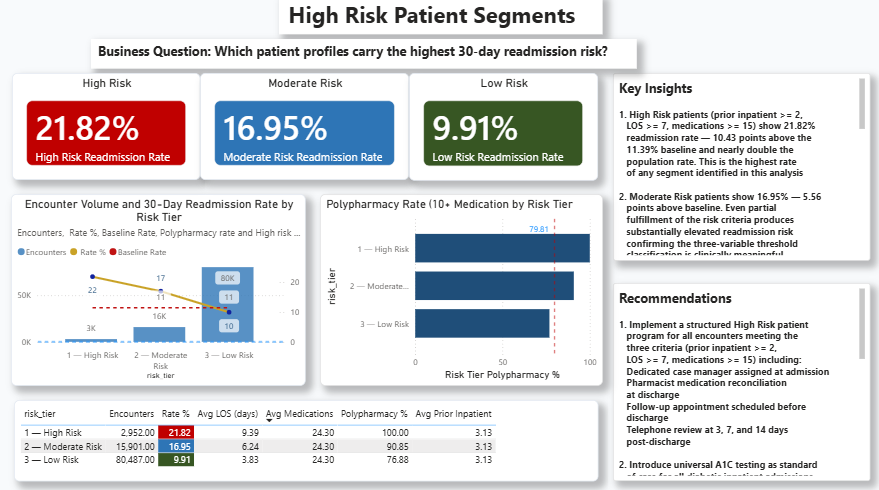

Layout of this report page (visuals, bound fields, positions):
{"tool":"powerbi","page":{"name":"High Risk Segments","canvas":[1280,720],"ordinal":1},"visuals":[{"type":"textbox","box":[404.4,0,468.9,56.7],"z":0},{"type":"lineClusteredColumnComboChart","title":"Encounter Volume and 30-Day                    Readmission Rate by Risk Tier","fields":{"Category":["public vw_kpi_high_risk_segments.risk_tier"],"Y2":["public vw_kpi_high_risk_segments.Risk Tier Rate %","_Measures.Baseline Rate"],"Y":["public vw_kpi_high_risk_segments.Risk Tier Encounters"]},"box":[16.4,288.1,427.2,278.3],"z":1000},{"type":"textbox","box":[888.8,112.9,373.2,271.7],"z":2000},{"type":"textbox","box":[888.9,417.5,373,287.3],"z":3000},{"type":"clusteredBarChart","title":"Polypharmacy Rate (10+ Medication by Risk Tier","fields":{"Category":["public vw_kpi_high_risk_segments.risk_tier"],"Y":["public vw_kpi_high_risk_segments.Risk Tier Polypharmacy %"]},"box":[463.3,288.3,410,278.3],"z":4000},{"type":"textbox","box":[132.2,64.4,791.1,43.3],"z":5000},{"type":"cardVisual","title":"High Risk","fields":{"Data":["public vw_kpi_high_risk_segments.High Risk Rate %"]},"box":[16.7,113.3,273.3,155],"z":6000},{"type":"cardVisual","title":"Moderate Risk","fields":{"Data":["public vw_kpi_high_risk_segments.Moderate Risk Rate %"]},"box":[290,113.3,303.3,155],"z":7000},{"type":"cardVisual","title":"Low Risk","fields":{"Data":["public vw_kpi_high_risk_segments.Low Risk Rate %"]},"box":[593,112.5,273.8,156.2],"z":8000},{"type":"tableEx","fields":{"Values":["public vw_kpi_high_risk_segments.risk_tier","public vw_kpi_high_risk_segments.Risk Tier Encounters","public vw_kpi_high_risk_segments.Risk Tier Rate %","public vw_kpi_high_risk_segments.Risk Tier Avg LOS","public vw_kpi_high_risk_segments.High Risk Avg Medications","public vw_kpi_high_risk_segments.Risk Tier Polypharmacy %","public vw_kpi_high_risk_segments.High Risk Avg Prior Inpatient"]},"box":[20,586.7,846.7,118.3],"z":9000}]}

Visuals, with their boxes in screenshot pixels (x1, y1, x2, y2), scaled from the page's 1280x720 canvas onto the 879x490 screenshot:
textbox: <region>278, 0, 600, 39</region>
"Encounter Volume and 30-Day                    Readmission Rate by Risk Tier" lineClusteredColumnComboChart: <region>11, 196, 305, 385</region>
textbox: <region>610, 77, 867, 262</region>
textbox: <region>610, 284, 867, 480</region>
"Polypharmacy Rate (10+ Medication by Risk Tier" clusteredBarChart: <region>318, 196, 600, 386</region>
textbox: <region>91, 44, 634, 73</region>
"High Risk" cardVisual: <region>11, 77, 199, 183</region>
"Moderate Risk" cardVisual: <region>199, 77, 407, 183</region>
"Low Risk" cardVisual: <region>407, 77, 595, 183</region>
tableEx - public vw_kpi_high_risk_segments.risk_tier x public vw_kpi_high_risk_segments.Risk Tier Encounters: <region>14, 399, 595, 480</region>
